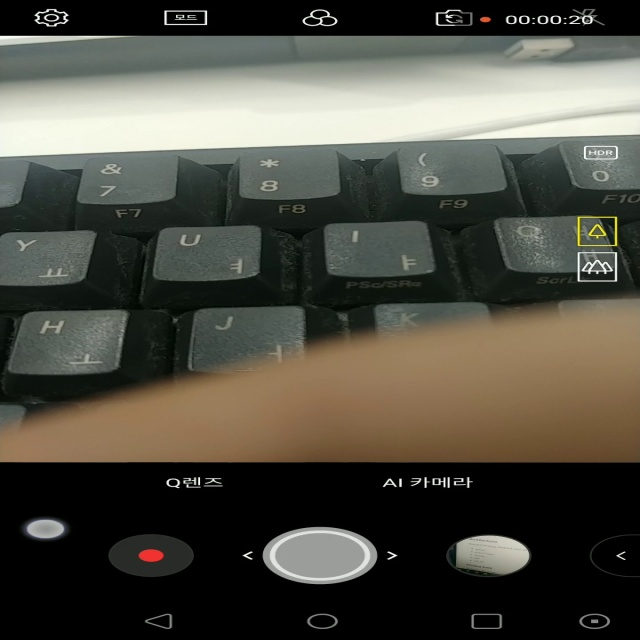Cursor: (24, 519, 69, 541)
